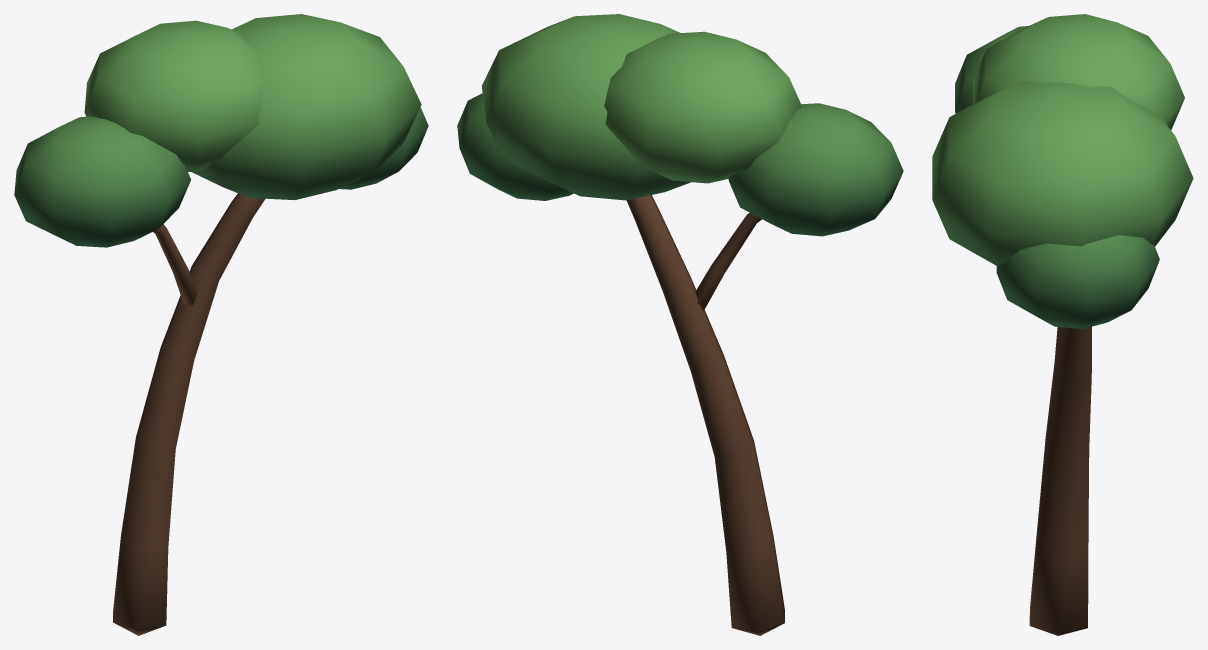
Rendered from lone_tree.glb.
3 views of the same model, side by side, from view 1: azimuth 30°, elevation 25°; view 2: azimuth 150°, elevation 25°; view 3: azimuth 270°, elevation 25° (orthographic). The views are drawn at different scales.
Visible parts, largest first — view 1: canopy, lone_tree; view 2: canopy, lone_tree; view 3: canopy, lone_tree.
Part boxes in pixels (bbox=[...]): canopy: bbox=[14, 14, 428, 247]; lone_tree: bbox=[113, 193, 265, 635]; canopy: bbox=[457, 14, 903, 236]; lone_tree: bbox=[626, 195, 784, 635]; canopy: bbox=[932, 14, 1193, 328]; lone_tree: bbox=[1029, 326, 1091, 635].
Size of the model in its own units: 3.08 by 4.17 by 1.55.
